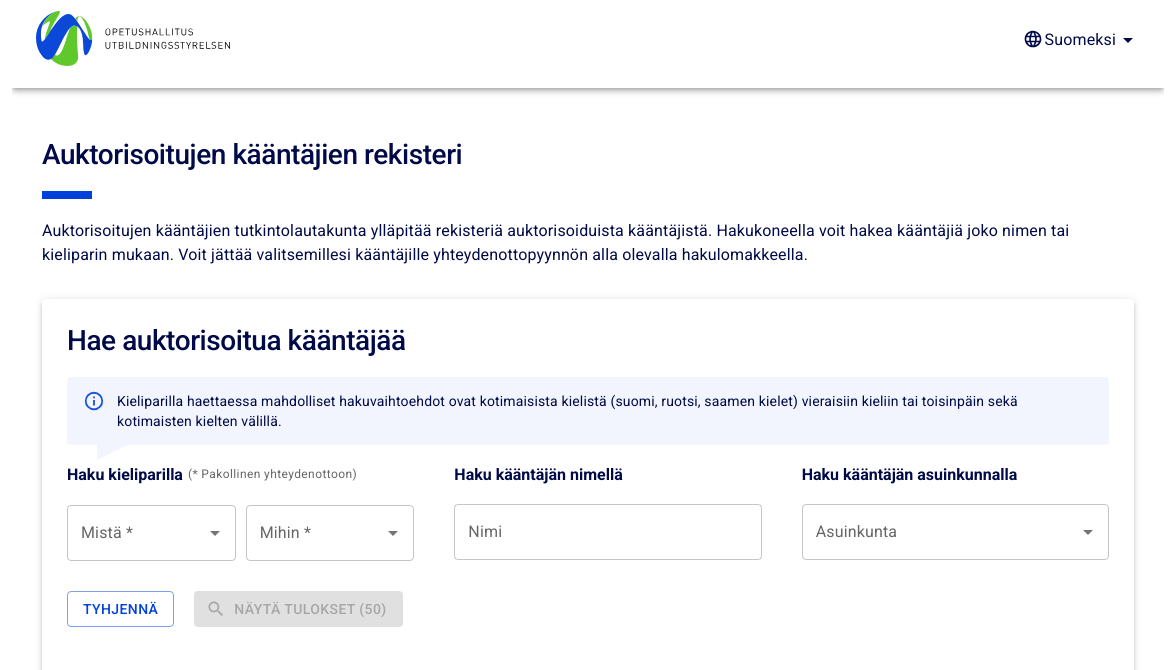
PublicTranslatorFilters › it should show a toast notification when language pair is not defined, and a row is clicked
The width and height of the screenshot is (1176, 670).
Step 1. Type "aaltonen anneli" into the element with test id "public-translator-filters__name-field" → (608, 532), box [454, 504, 761, 560]
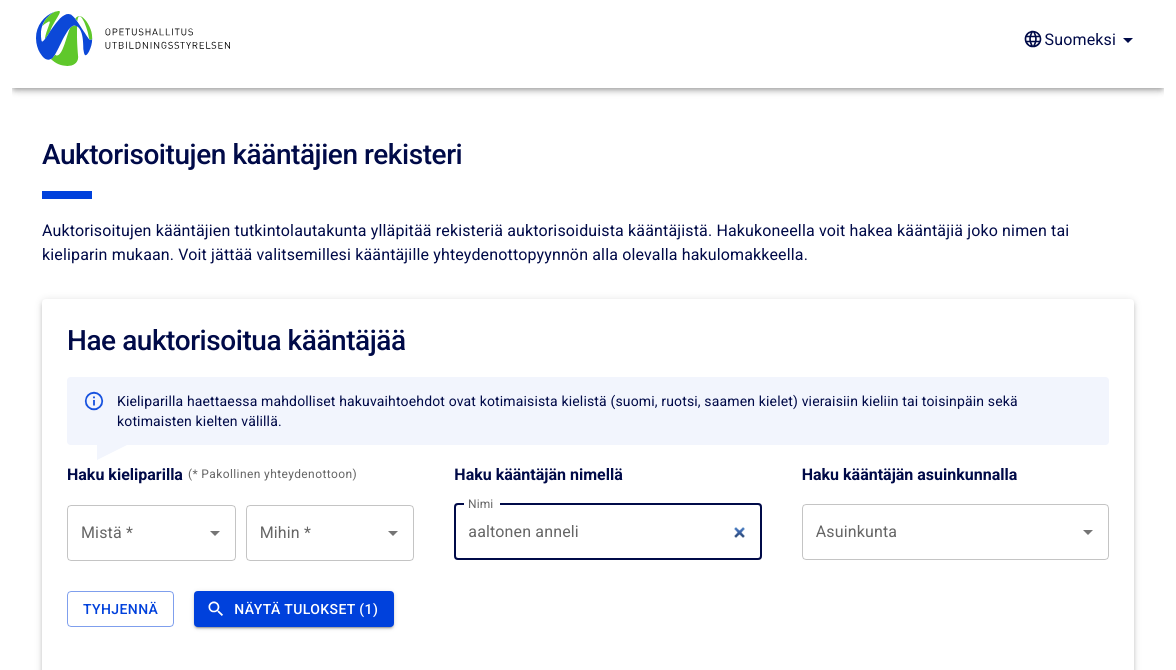
Step 2. Click the button with test id "public-translator-filters__search-btn" → (294, 610), box [194, 591, 394, 628]
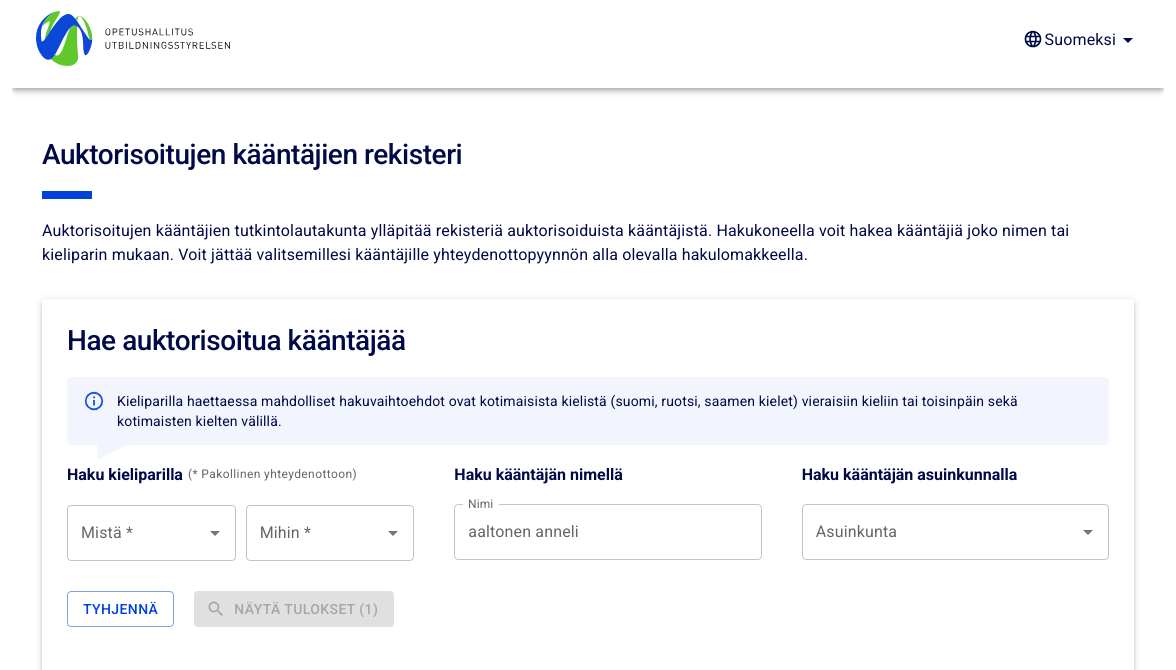
Step 3. Scroll
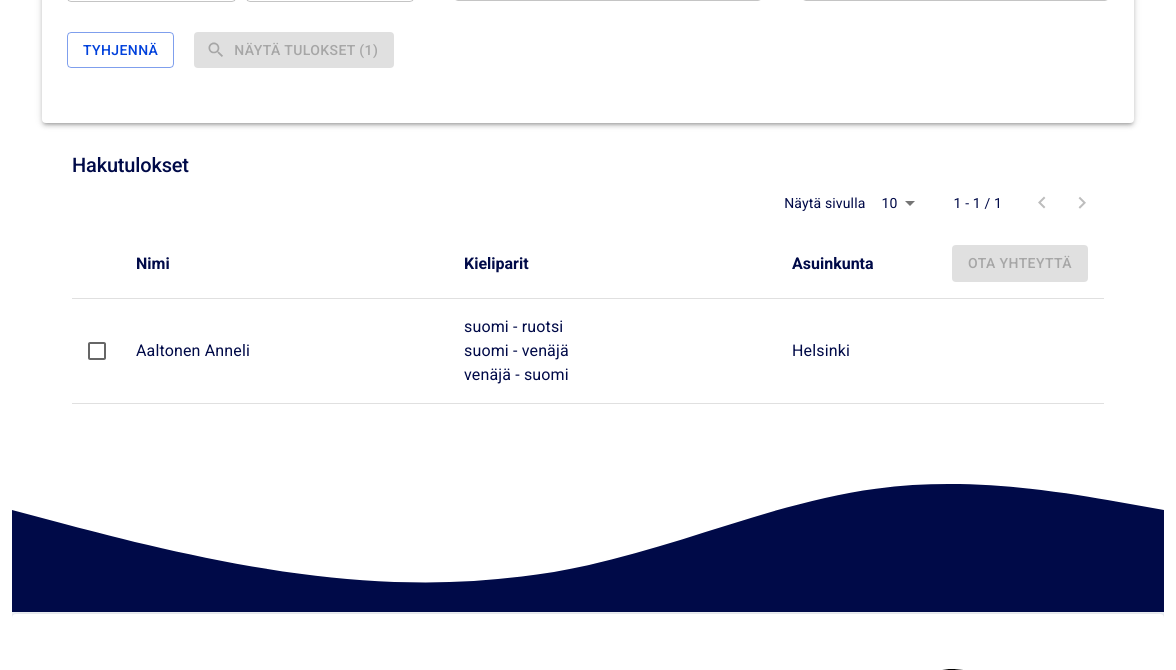
Step 4. Click the row that starts with "Aaltonen Anneli" → (588, 352), box [72, 299, 1104, 404]
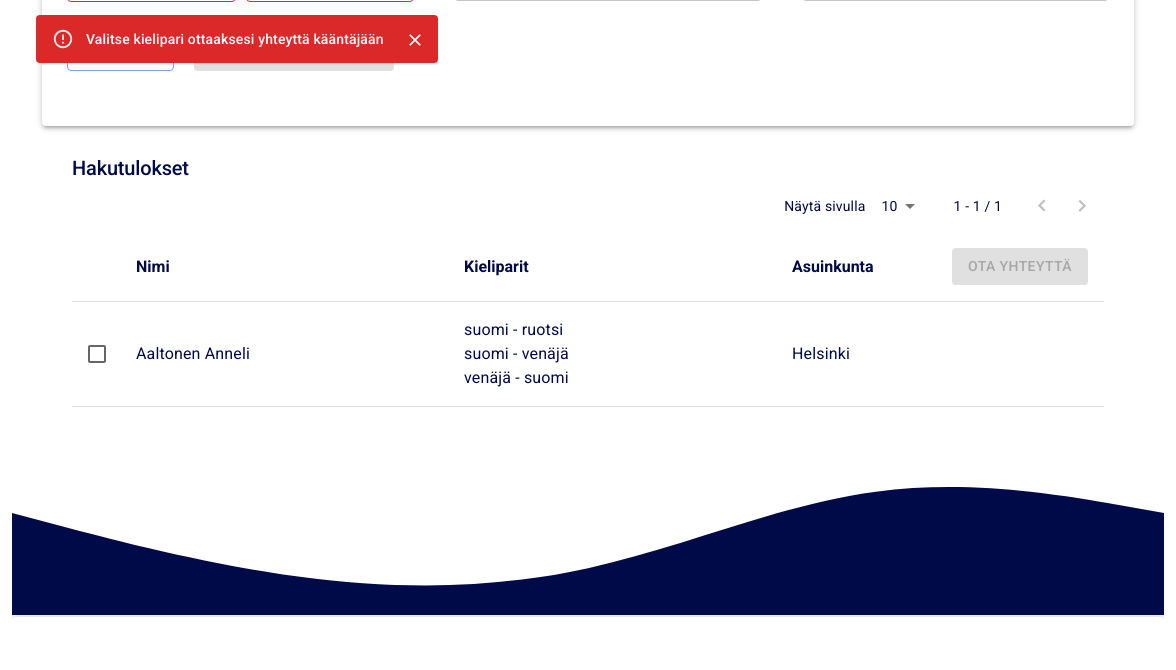
Expected: the message with test id "toast-notification" reads "Valitse kielipari ottaaksesi yhteyttä kääntäjään", [36, 15, 438, 63]
